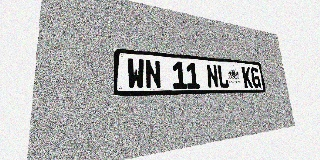1: (171, 61, 187, 89), (185, 62, 200, 88)
G: (250, 67, 261, 88)
K: (241, 66, 253, 88)
L: (217, 64, 230, 88)
N: (144, 59, 161, 89), (206, 64, 219, 88)
W: (127, 58, 145, 89)
